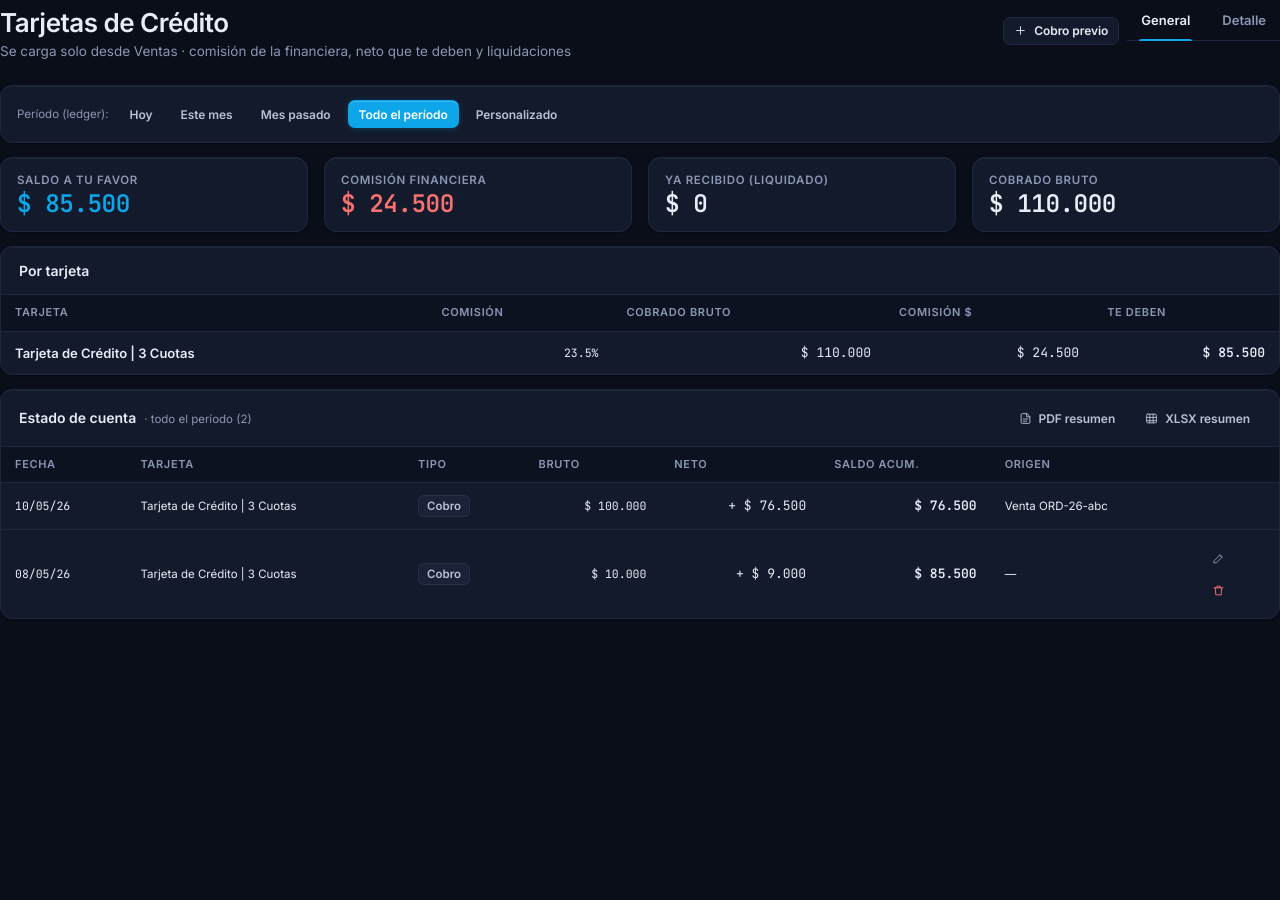
it: Pantalla Tarjetas de Crédito › abre modal de edición pre-cargando datos del cobro previo
The width and height of the screenshot is (1280, 900).
Expected: the text "Venta ORD-26-abc" is shown, [991,483,1188,530]
Step 1. Click the button named "Editar movimiento" → coordinates (1218, 558), box [1202,542,1234,574]
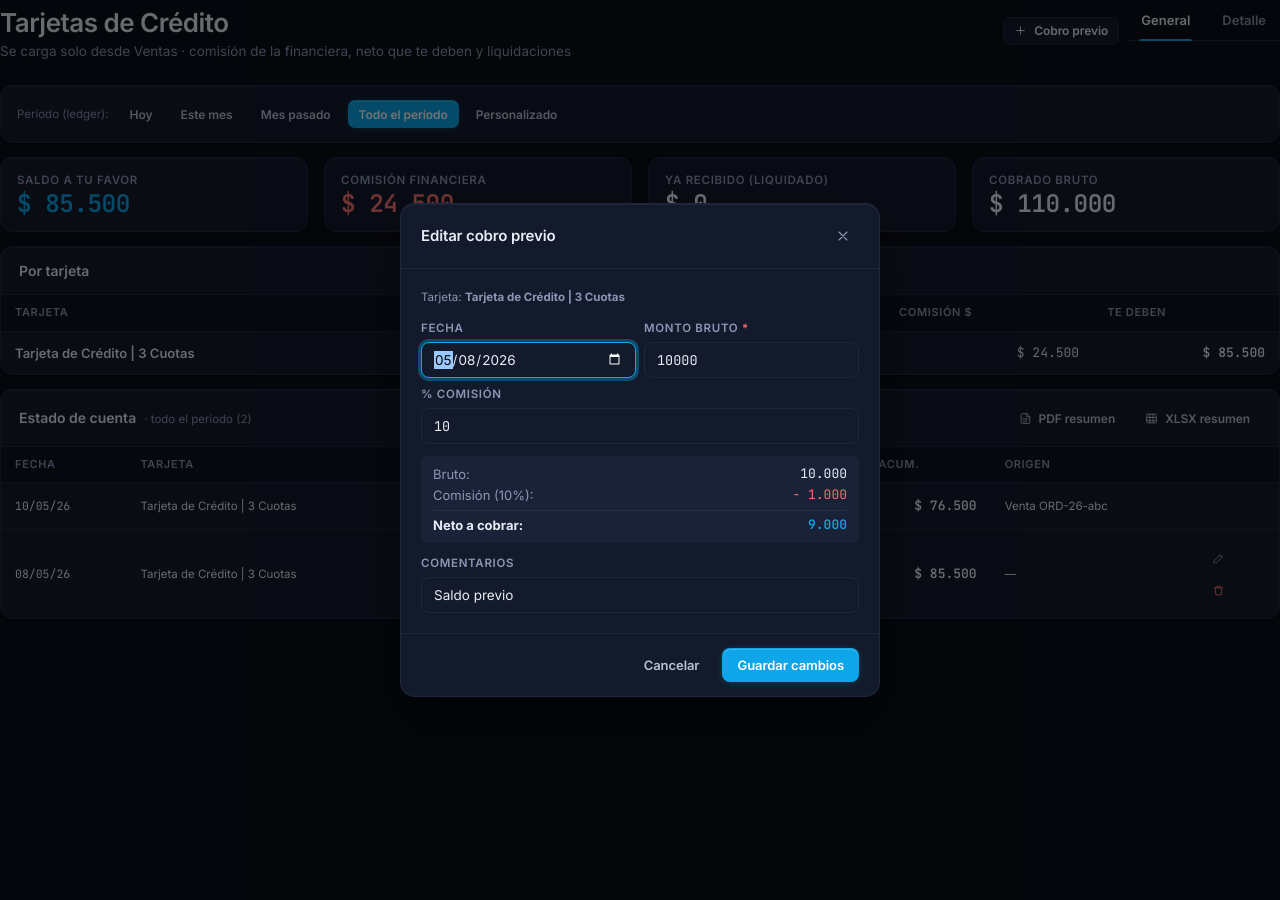
Result: the heading "Editar cobro previo" is shown at [421,225,556,246]
Result: the number field showing "10000" below "Monto bruto" is shown at [644,342,859,378]
Result: the number field showing "10" below "% comisión" is shown at [421,408,859,444]
